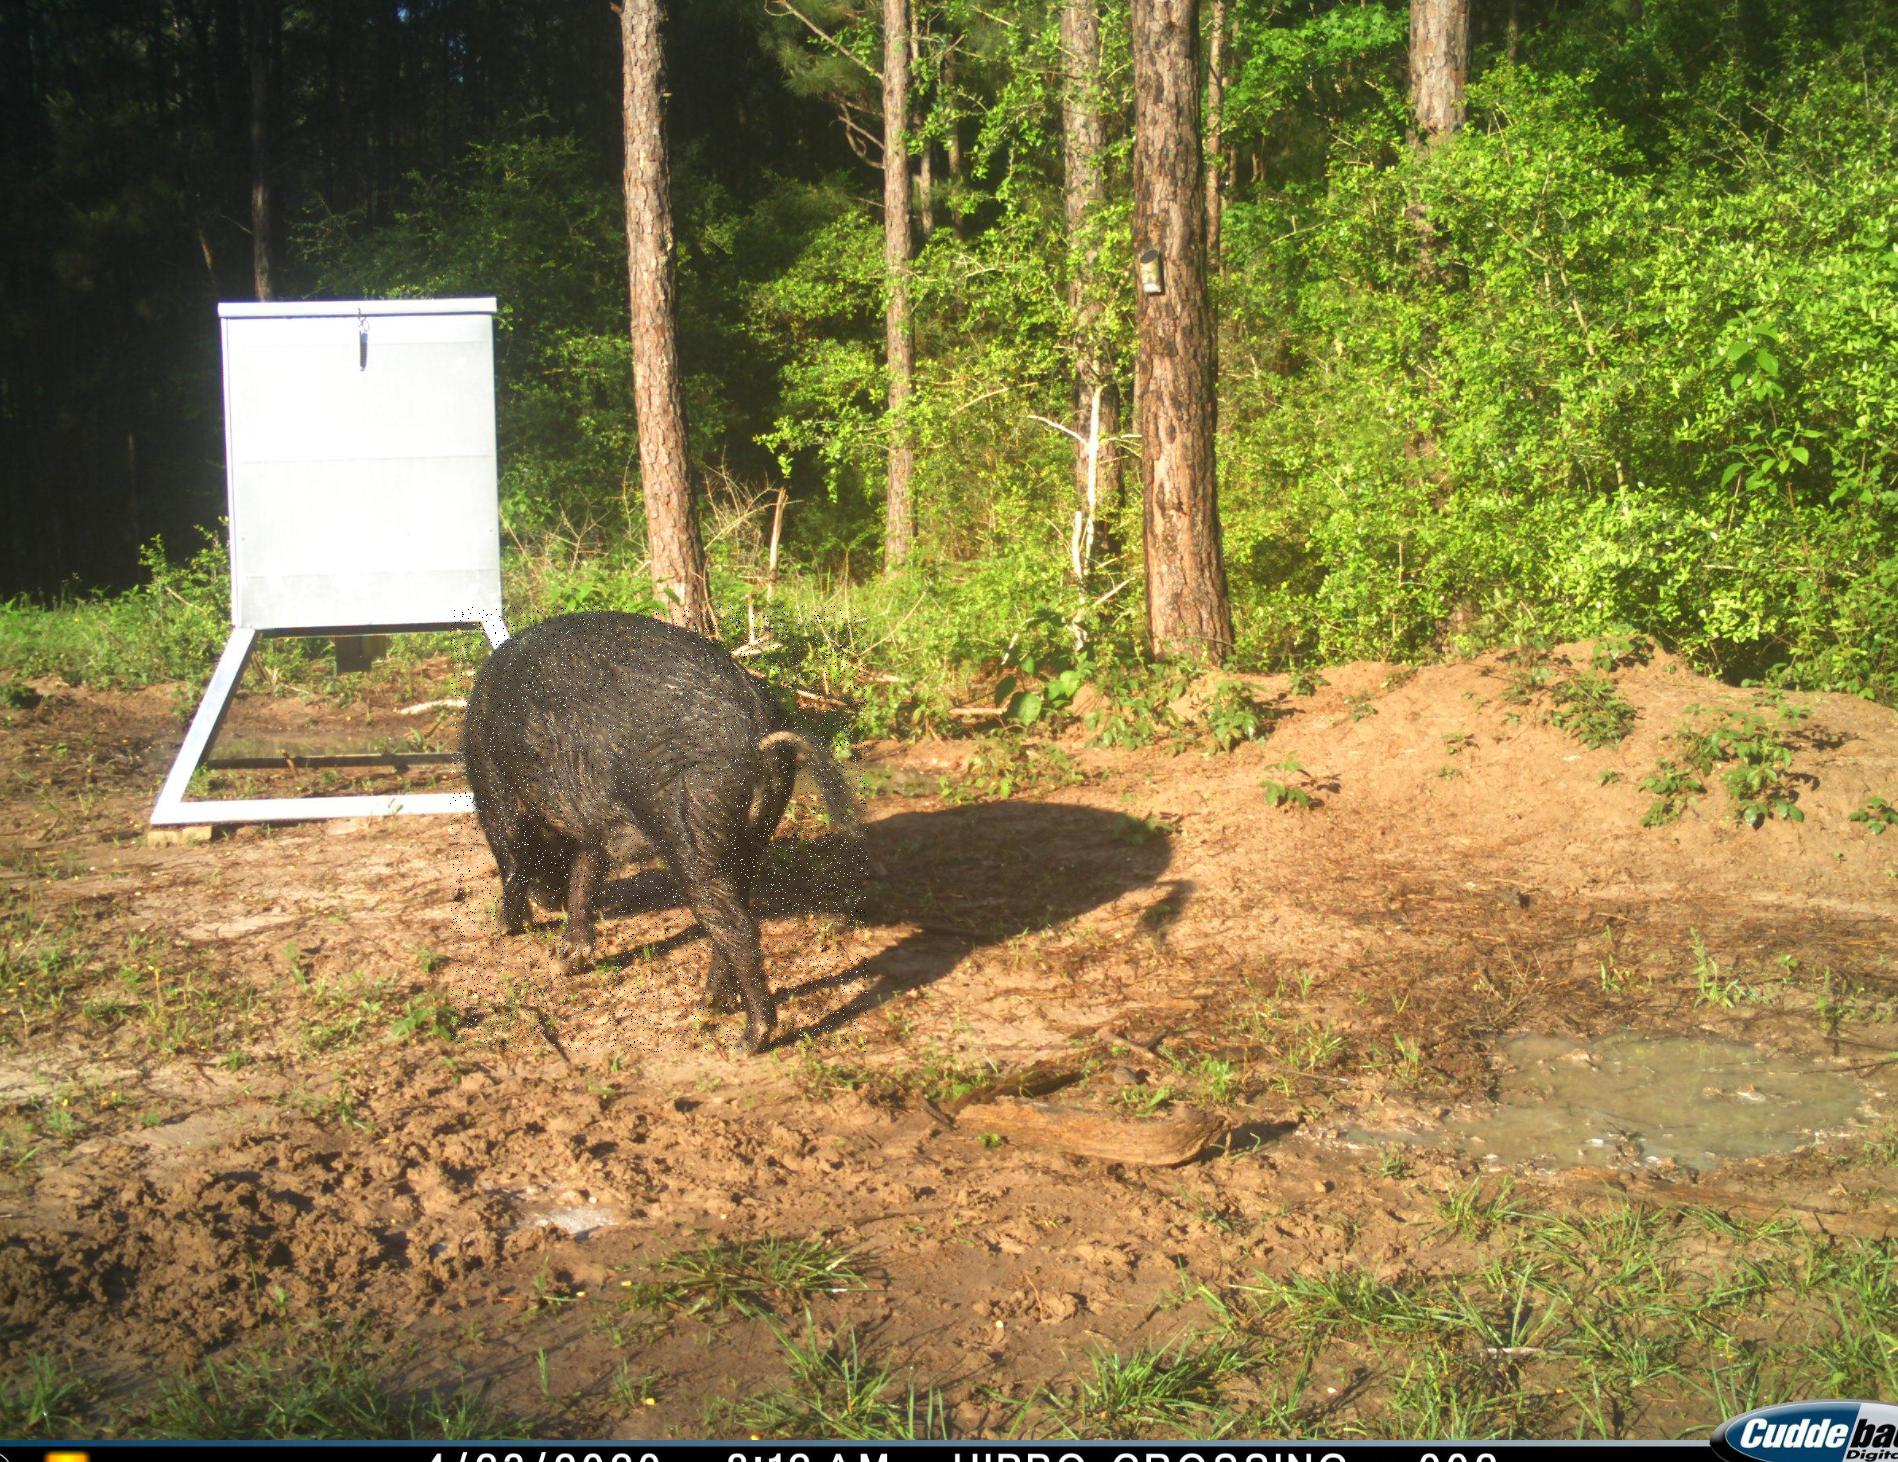Hog: (450, 605, 868, 1052)
